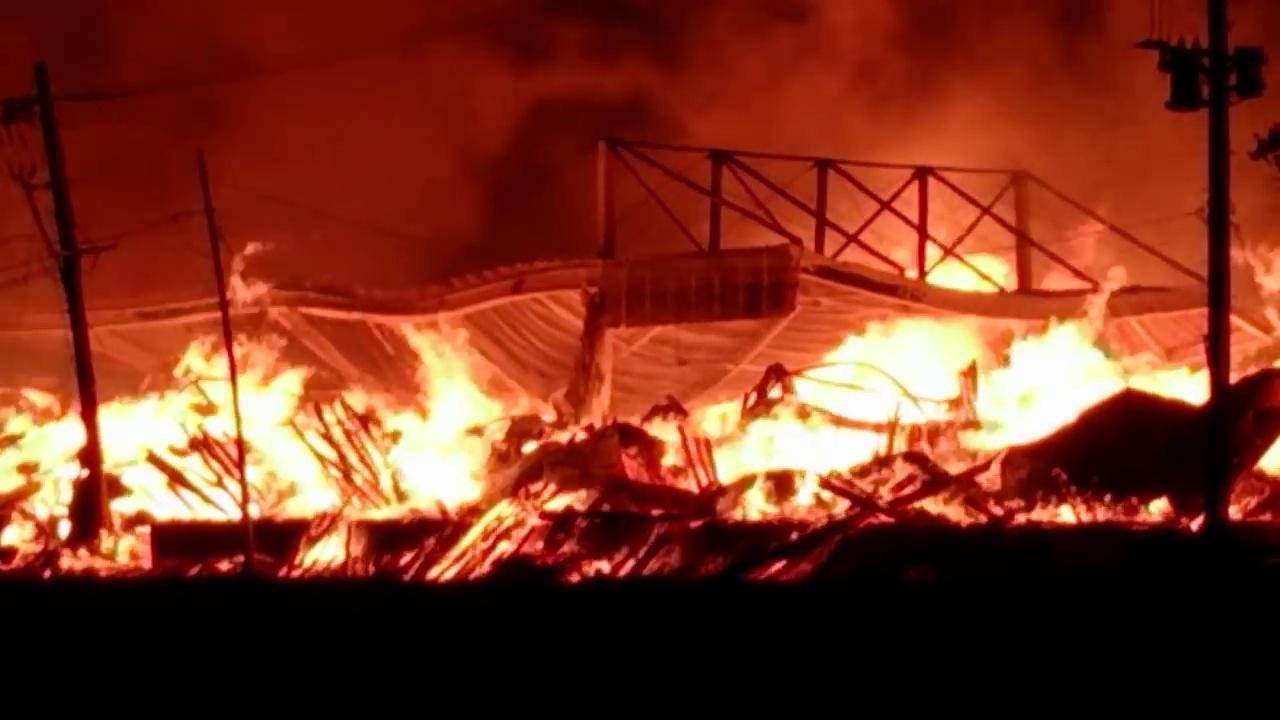Fire: (5, 326, 523, 567), (646, 316, 1228, 480), (925, 249, 1012, 293)
